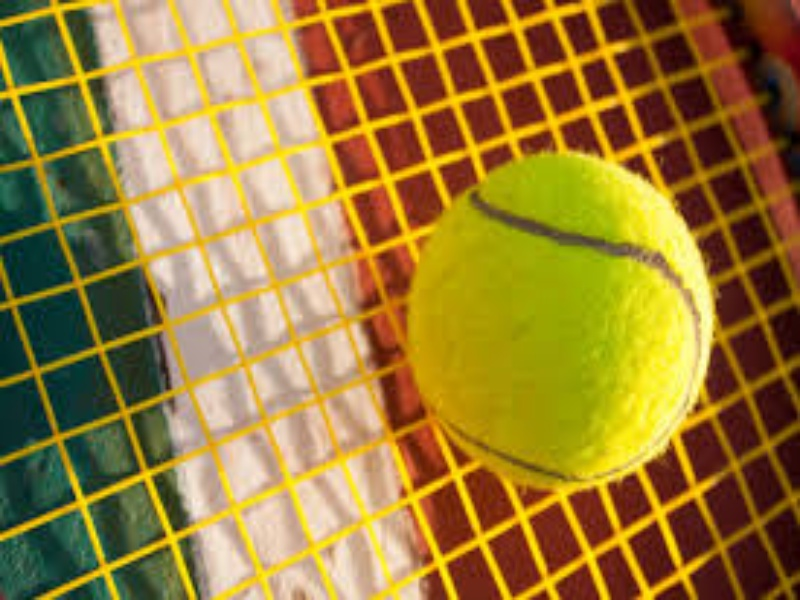tennis ball: (404, 131, 744, 497)
